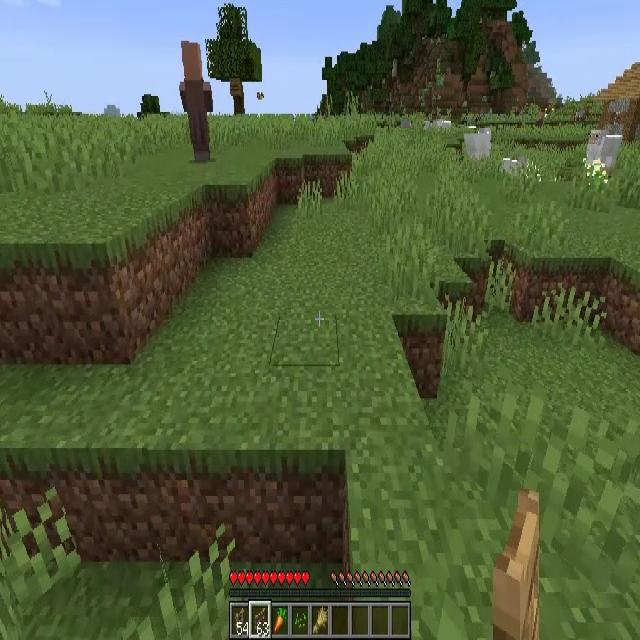flower: (588, 158, 608, 186)
people: (179, 40, 213, 162)
sheep: (588, 128, 623, 174), (464, 128, 492, 162), (503, 158, 522, 182), (432, 120, 451, 135)
